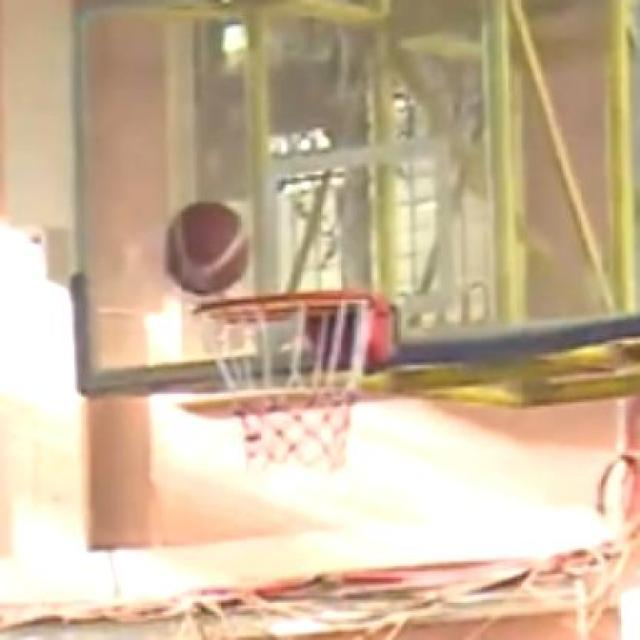Ball: (168, 199, 248, 298)
